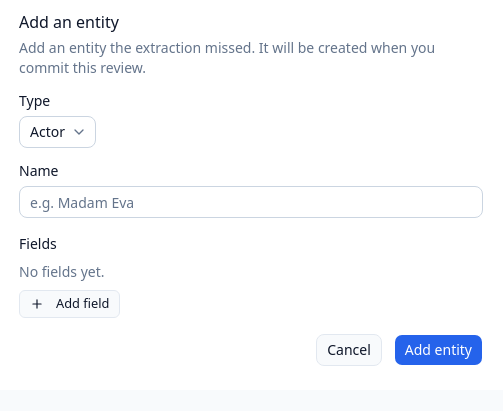
Test: AddEntityForm › blocks submission and shows a message when the name is blank
Click the button "Add entity": [438, 350] box [394,334,483,366]
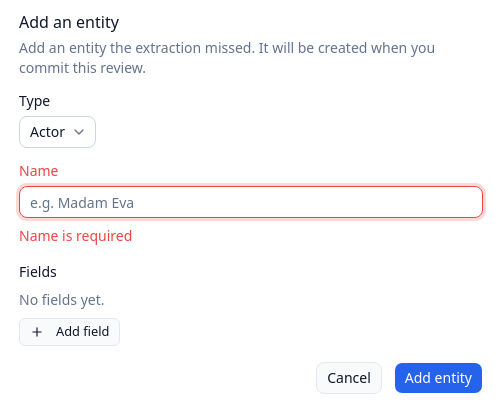
Result: the text "Name is required" is shown at [19,226,132,245]
